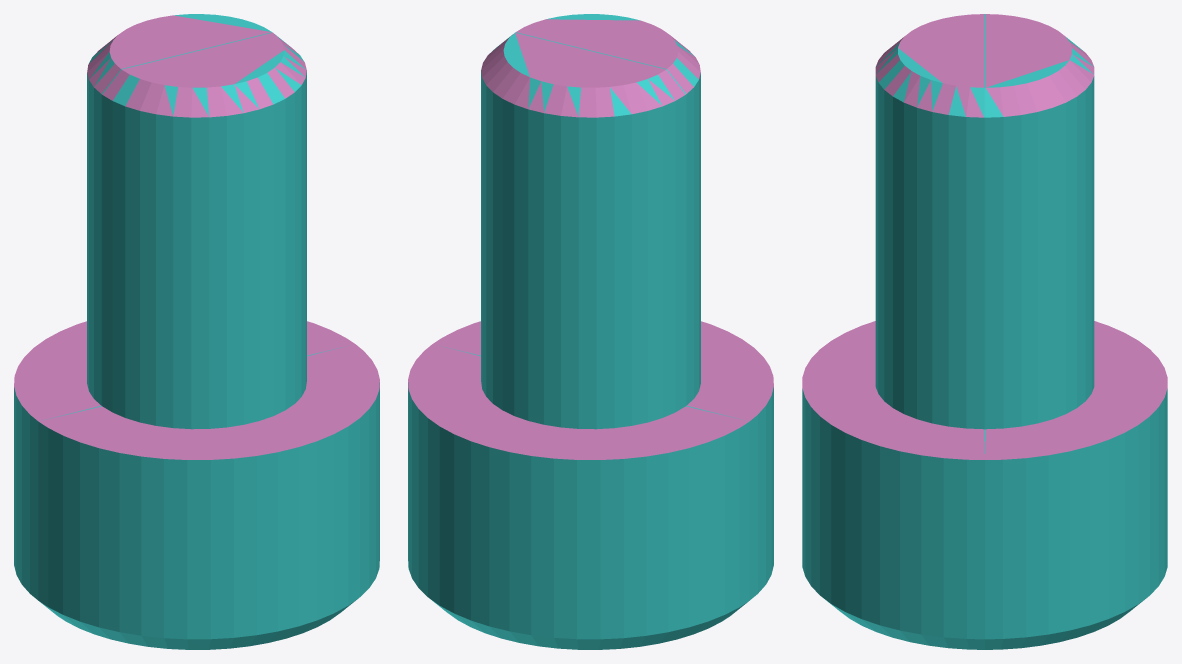
File: M6_Bolt_.dae
3 renders of one model, left to right at view 1: azimuth 30°, elevation 25°; view 2: azimuth 150°, elevation 25°; view 3: azimuth 270°, elevation 25°, orthographic.
Parts seen in each view (by area): view 1: M6_Bolt; view 2: M6_Bolt; view 3: M6_Bolt.
Part boxes in pixels (<box>): M6_Bolt: <box>14,14,379,649</box>; M6_Bolt: <box>408,14,773,649</box>; M6_Bolt: <box>802,14,1167,649</box>.
Bounding box in the file's own units: 0.01 × 0.00998 × 0.016.
